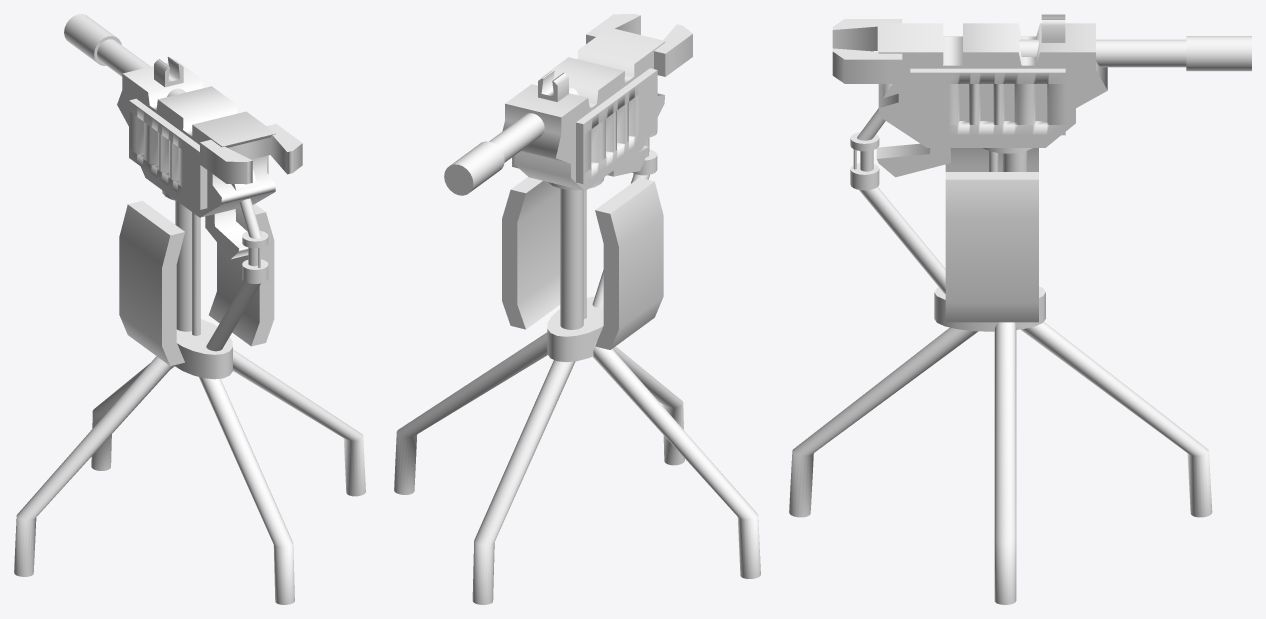
File: Gun_All.obj
3 renders of one model, left to right at view 1: azimuth 30°, elevation 25°; view 2: azimuth 150°, elevation 25°; view 3: azimuth 270°, elevation 25°, orthographic. The views are drawn at different scales.
Parts seen in each view (by area): view 1: pCube1, pCube7, pCylinder6, pCube2, pCylinder5, pCube6, pCylinder7, pCube4, pCylinder10, pCylinder3, pCube5, pCylinder2 (+7 smaller); view 2: pCube1, pCube7, pCube6, pCube2, pCylinder6, pCylinder4, pCylinder7, pCylinder3, pCylinder10, pCube4, pCylinder2, pCylinder5 (+4 smaller); view 3: pCube1, pCube6, pCube2, pCylinder7, pCylinder4, pCylinder5, pCube4, pCylinder1, pCylinder2, pCylinder11, pCube5, pCube7 (+3 smaller).
Part boxes in pixels (x1,y1,x2,y2): pCube1: [117, 60, 275, 217]; pCube7: [119, 201, 184, 365]; pCylinder6: [14, 356, 173, 576]; pCube2: [129, 98, 268, 209]; pCylinder5: [199, 377, 294, 604]; pCube6: [209, 204, 274, 346]; pCylinder7: [233, 349, 365, 496]; pCube4: [200, 124, 302, 184]; pCylinder10: [174, 319, 232, 379]; pCylinder3: [175, 200, 191, 331]; pCube5: [205, 169, 257, 259]; pCylinder2: [64, 14, 121, 65]; pCube1: [502, 27, 665, 190]; pCube7: [595, 177, 663, 349]; pCube6: [502, 177, 560, 329]; pCube2: [512, 59, 657, 184]; pCylinder6: [592, 342, 760, 578]; pCylinder4: [472, 360, 575, 604]; pCylinder7: [394, 332, 547, 494]; pCylinder3: [560, 188, 583, 329]; pCylinder10: [547, 296, 603, 362]; pCube4: [586, 14, 692, 76]; pCylinder2: [444, 141, 504, 195]; pCylinder5: [612, 346, 684, 465]; pCube1: [877, 23, 1107, 147]; pCube6: [945, 172, 1038, 322]; pCube2: [910, 36, 1065, 135]; pCylinder7: [994, 322, 1016, 604]; pCylinder4: [1021, 322, 1212, 517]; pCylinder5: [789, 327, 978, 517]; pCube4: [832, 19, 902, 83]; pCylinder1: [1019, 39, 1186, 67]; pCylinder2: [1186, 36, 1251, 71]; pCylinder11: [859, 187, 945, 293]; pCube5: [876, 84, 950, 177]; pCube7: [945, 148, 1038, 171].
Size of the model in its own units: 2.8 by 3.48 by 2.94.
2 materials, 2 textured.
